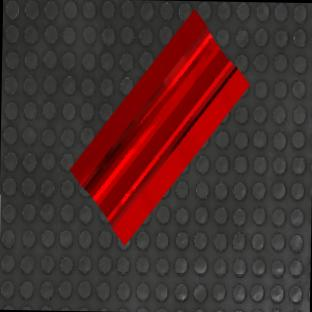objects: (49, 5, 269, 250)
